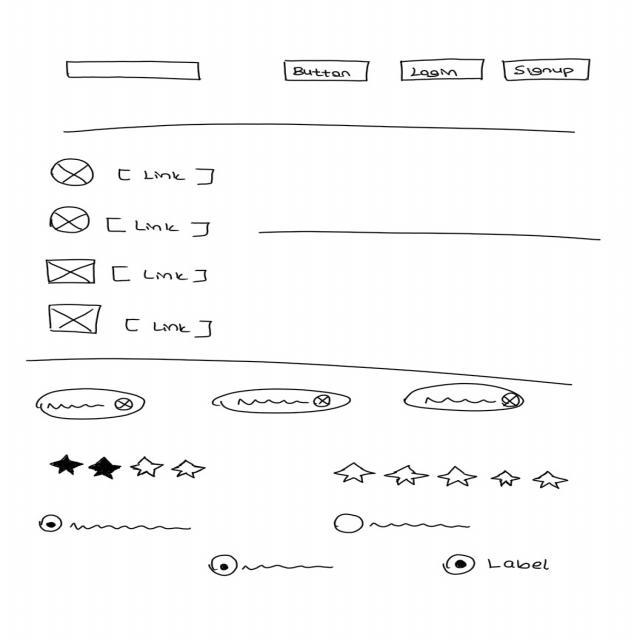button: (501, 57, 592, 82), (282, 59, 372, 83), (398, 58, 486, 82)
image: (48, 302, 104, 334), (44, 258, 96, 286), (49, 158, 96, 186), (49, 206, 91, 233)
input: (64, 59, 204, 82)
link: (107, 216, 214, 240), (110, 262, 209, 286), (124, 317, 215, 341), (116, 167, 217, 186)
radio: (38, 513, 194, 533), (332, 512, 472, 534), (441, 551, 555, 577), (208, 554, 335, 576)
